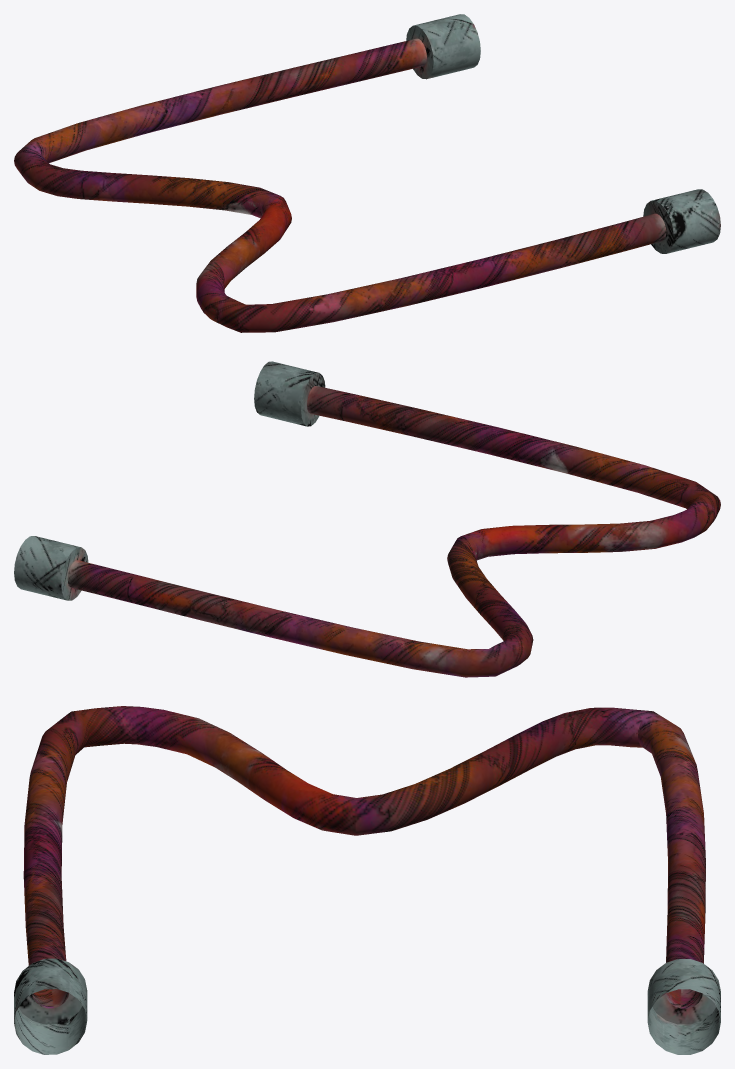
File: Calentador.fbx
The picture shows the model from 3 angles, top to bottom: view 1: azimuth 30°, elevation 25°; view 2: azimuth 150°, elevation 25°; view 3: azimuth 270°, elevation 25°; orthographic projection. The views are drawn at different scales.
Visible parts, largest first — view 1: Calentador_Low; view 2: Calentador_Low; view 3: Calentador_Low.
Part boxes in pixels (left/top/right/bottom): Calentador_Low: left=14, top=14, right=720, bottom=332; Calentador_Low: left=14, top=361, right=720, bottom=677; Calentador_Low: left=14, top=706, right=720, bottom=1054.
Bounding box in the file's own units: 1.14 × 0.1135 × 1.11.
1 material, 1 textured.
